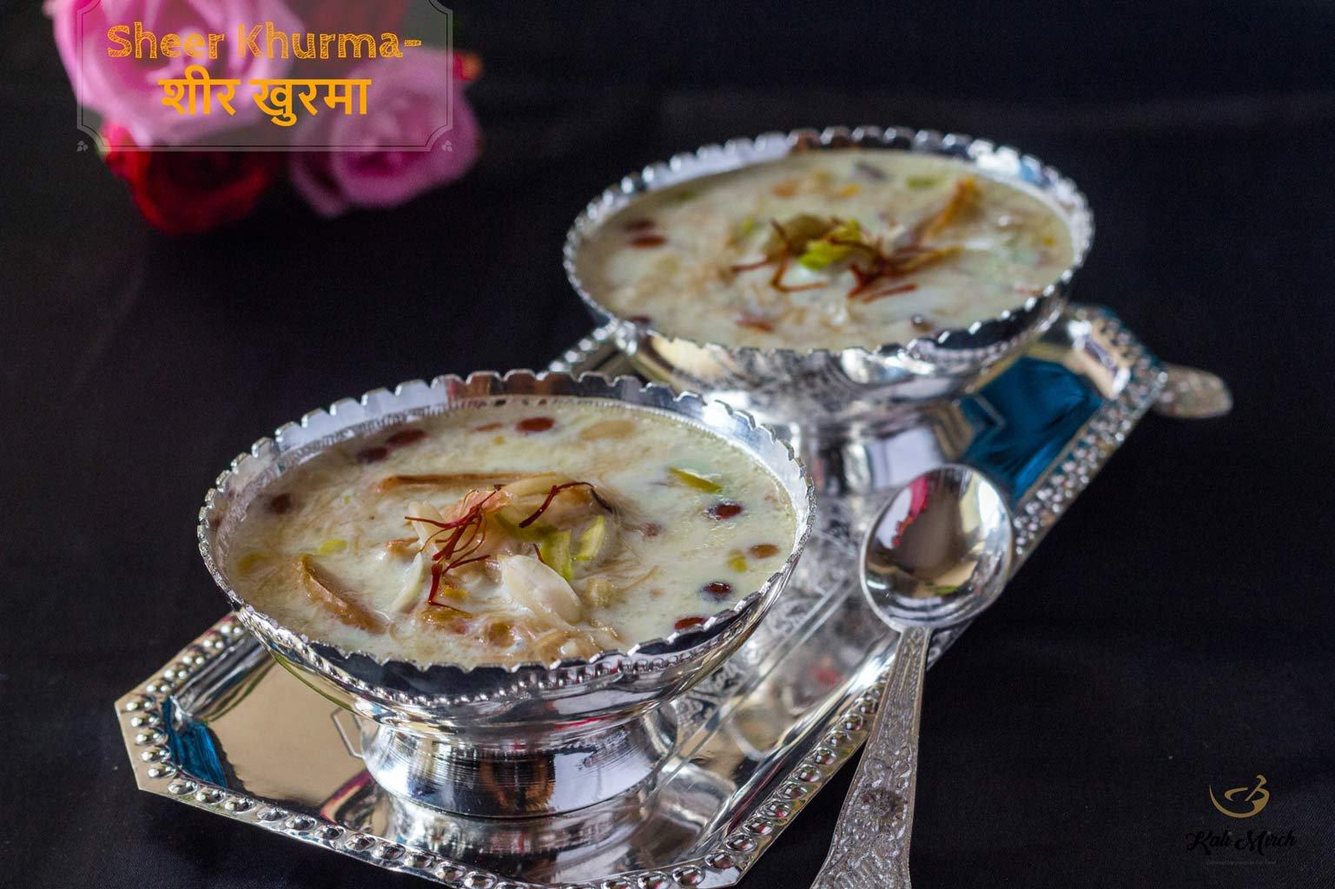kheer: (189, 375, 816, 829), (570, 111, 1107, 354)
